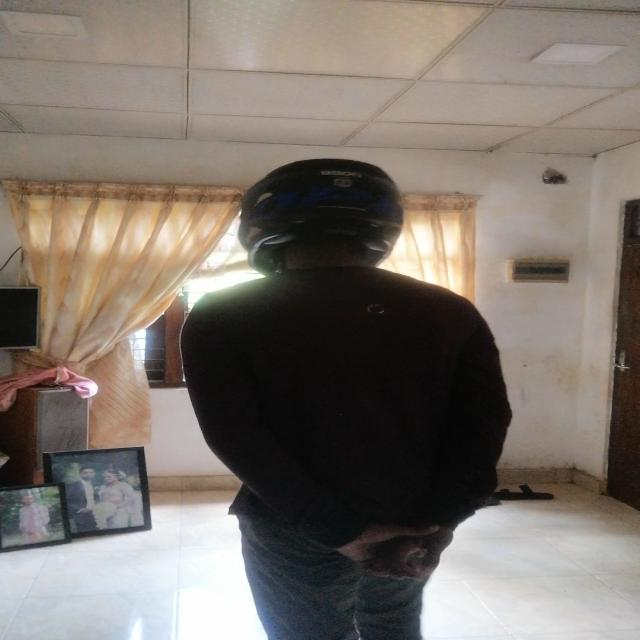Helmet_Wearer: (212, 162, 428, 286)
Person: (182, 153, 507, 640)
